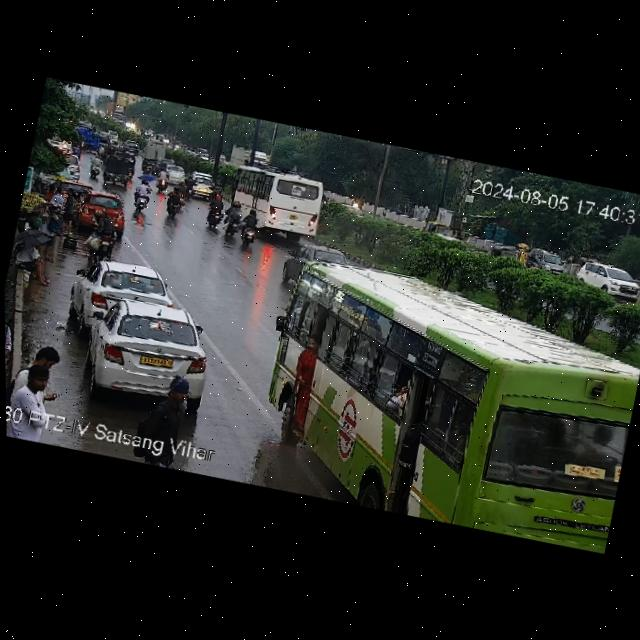bus: (253, 236, 640, 524), (221, 160, 333, 250)
car: (72, 291, 216, 412), (71, 253, 173, 331), (573, 258, 640, 299), (78, 189, 129, 222), (100, 151, 138, 189), (281, 241, 312, 284), (98, 129, 140, 156), (528, 246, 568, 273), (422, 219, 465, 240), (189, 171, 214, 201), (161, 163, 188, 182), (80, 131, 100, 152)
motorcycle: (83, 206, 118, 259), (234, 206, 263, 246), (200, 192, 229, 230), (220, 201, 247, 240), (161, 180, 188, 218), (166, 178, 194, 208), (129, 179, 154, 212), (154, 167, 174, 194), (87, 151, 102, 177), (184, 174, 195, 196), (141, 158, 155, 175), (213, 180, 224, 194)
person: (5, 315, 71, 444), (146, 375, 202, 447), (38, 184, 84, 238), (10, 238, 57, 286)
truck: (138, 138, 168, 164)
